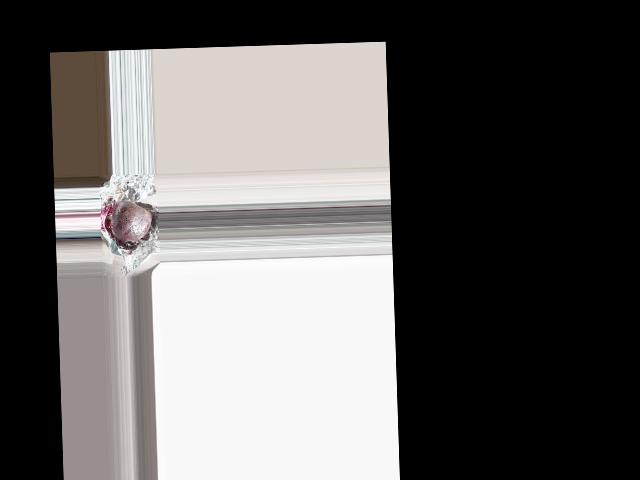beet: (111, 198, 152, 242)
